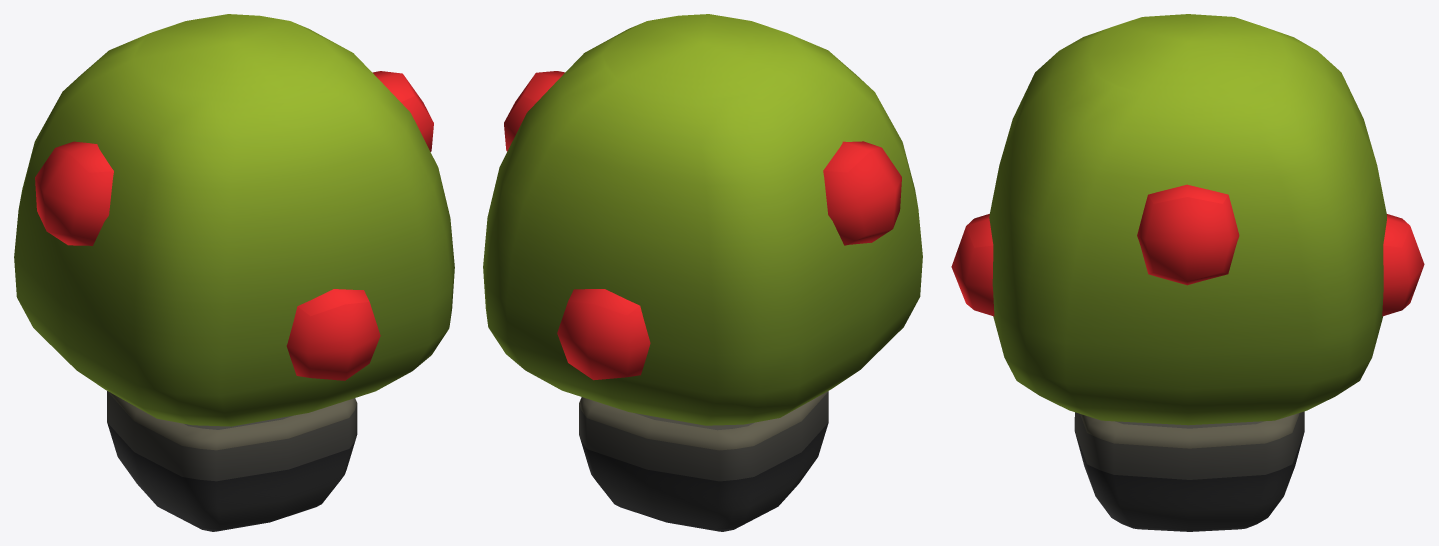
Rendered from plant2_LOD_setup.fbx.
The picture shows the model from 3 angles, left to right: view 1: azimuth 30°, elevation 25°; view 2: azimuth 150°, elevation 25°; view 3: azimuth 270°, elevation 25°; orthographic projection.
Parts seen in each view (by area): view 1: plant2_LOD0; view 2: plant2_LOD0; view 3: plant2_LOD0.
Boxes of the visible parts, x1,y1,x2,y2 form: plant2_LOD0: [14, 14, 454, 531]; plant2_LOD0: [483, 14, 922, 531]; plant2_LOD0: [951, 14, 1424, 531].
Size of what is drawn, in the model's own units: 62.08 by 71.62 by 65.93.
